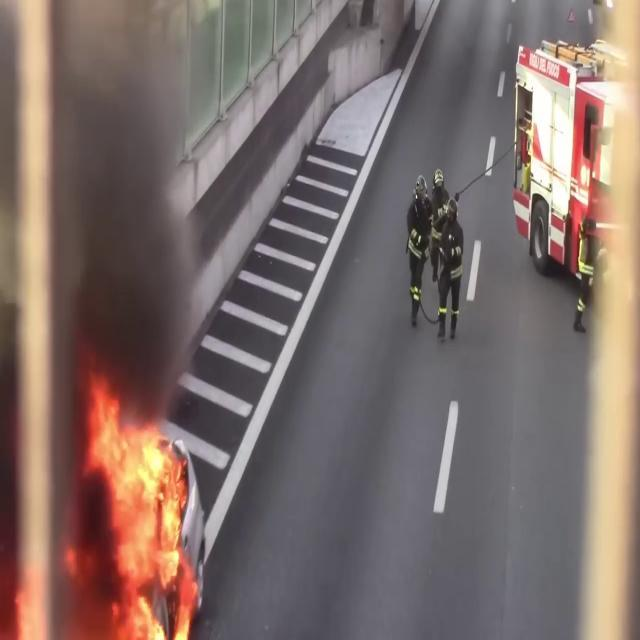Fire: (84, 374, 198, 636)
Smoke: (54, 1, 214, 415)
